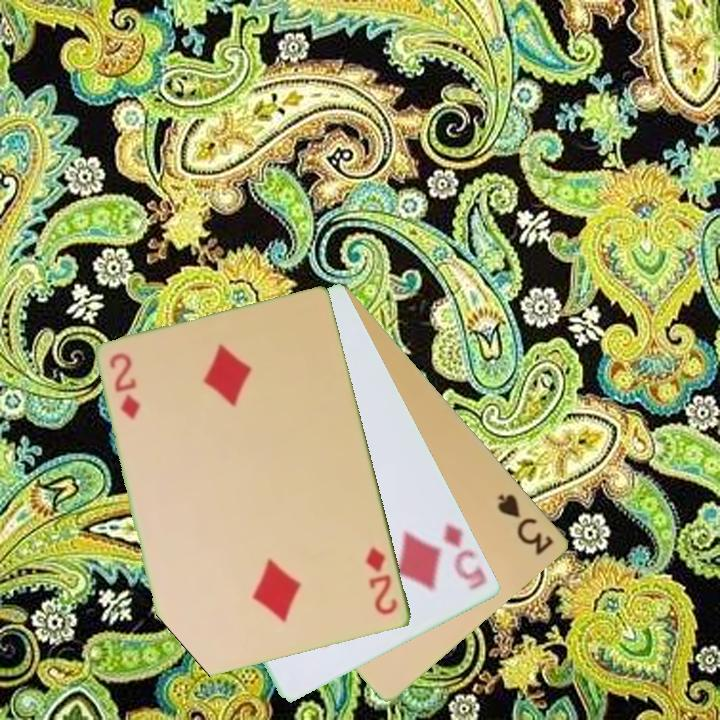2d: (362, 543, 401, 619), (106, 349, 143, 423)
3s: (494, 490, 557, 559)
5d: (439, 520, 491, 593)
